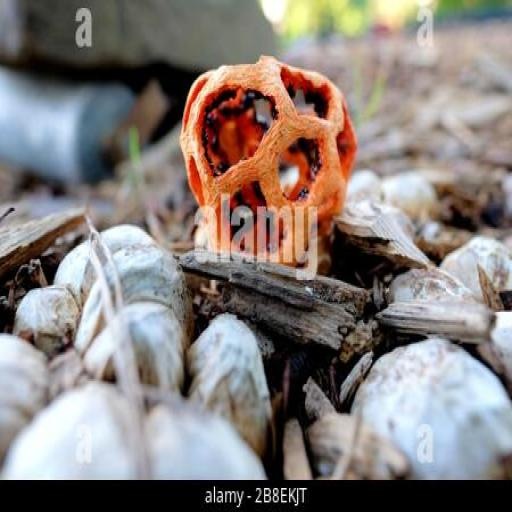Red Cage Fungus: (160, 33, 388, 279)
